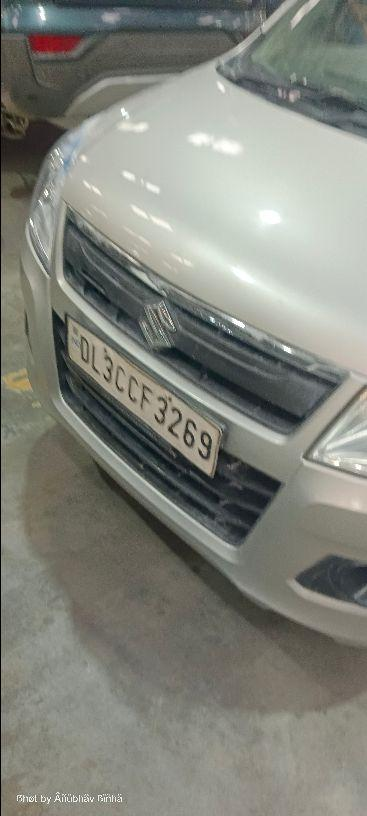license_plate: (61, 312, 225, 480)
